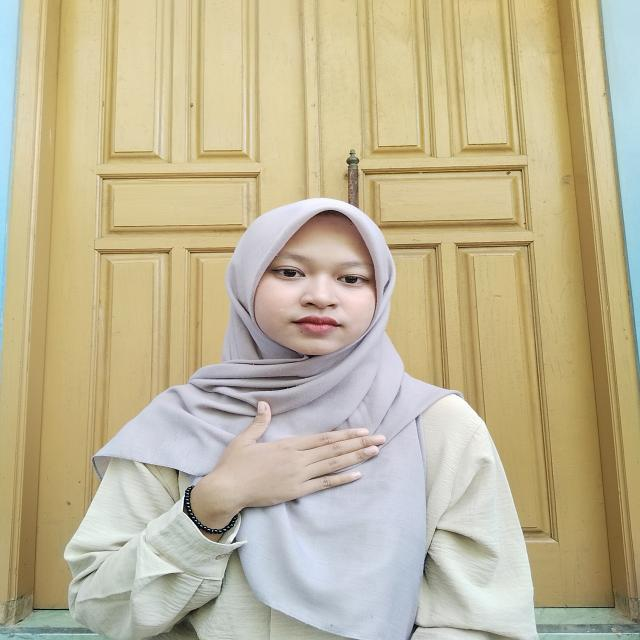tolong: (168, 397, 386, 543)
